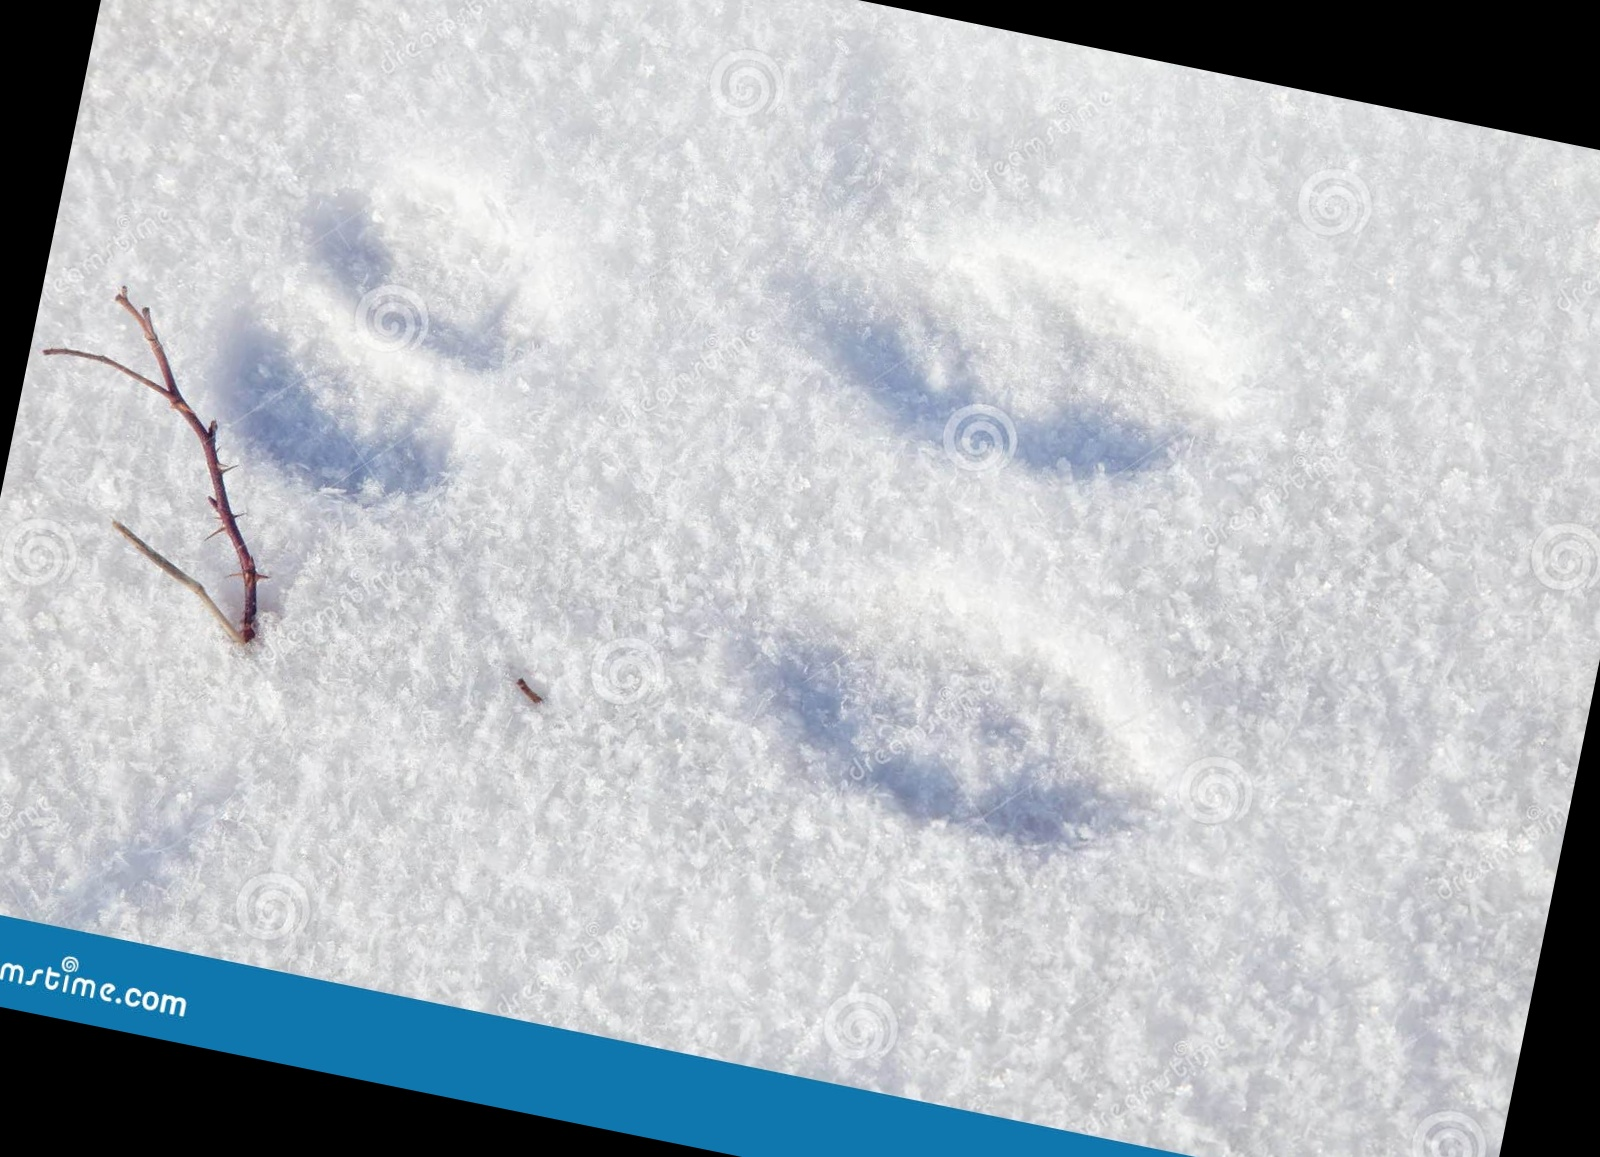rabbit: (91, 60, 1317, 917)
